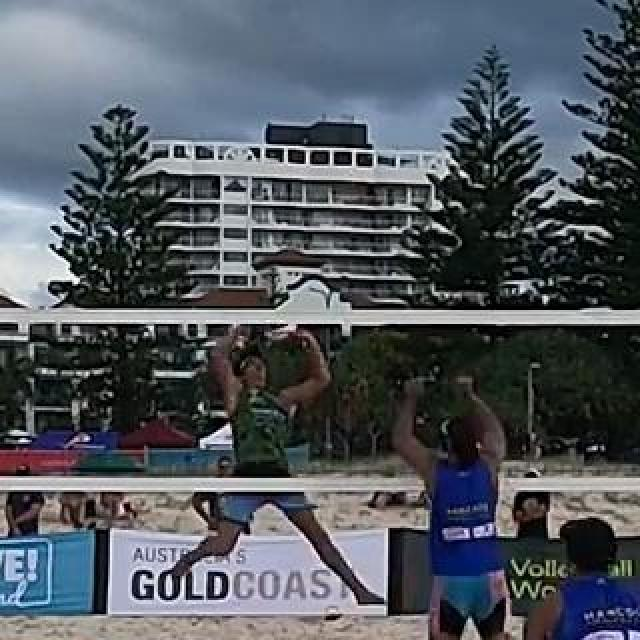volleyball: (263, 310, 297, 342)
